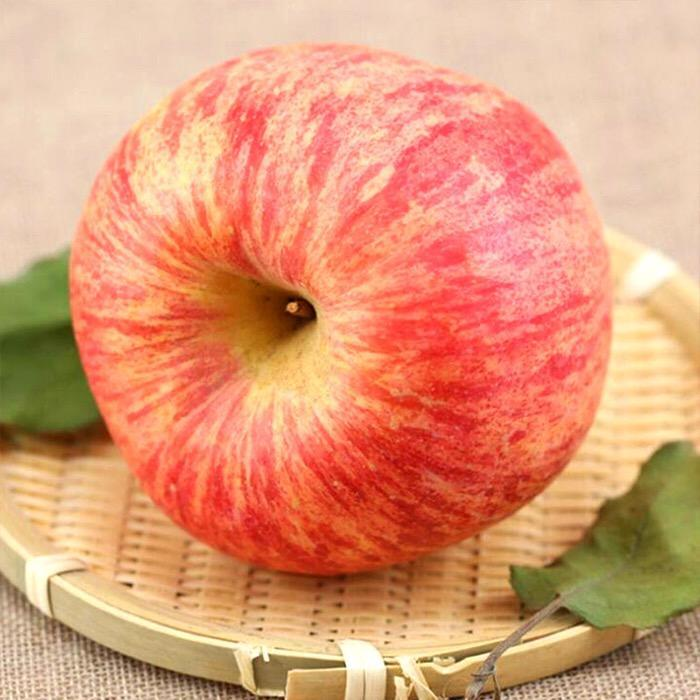apple: (65, 36, 614, 582)
